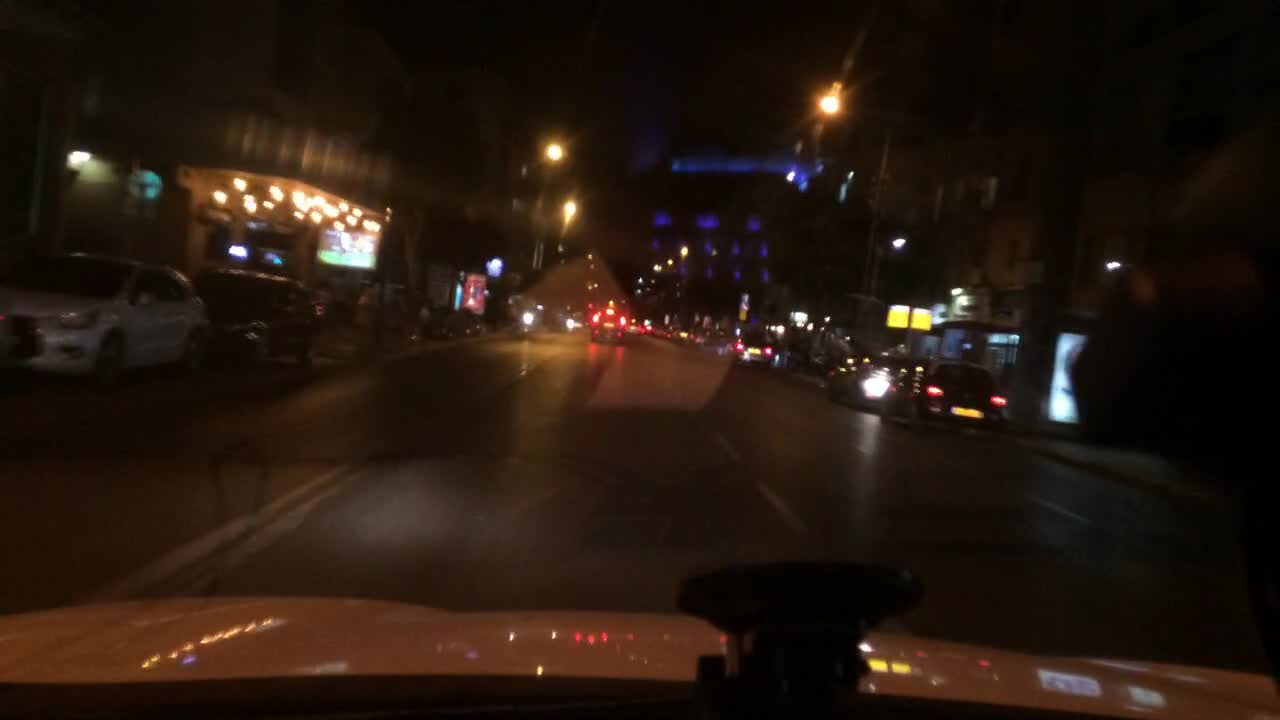car: (0, 252, 208, 384), (188, 268, 324, 364), (884, 356, 1005, 435), (826, 354, 909, 416), (731, 331, 776, 365), (591, 301, 627, 341), (426, 314, 456, 343), (459, 316, 486, 336), (708, 328, 727, 354), (645, 321, 670, 338), (690, 326, 706, 345), (670, 324, 687, 339)
